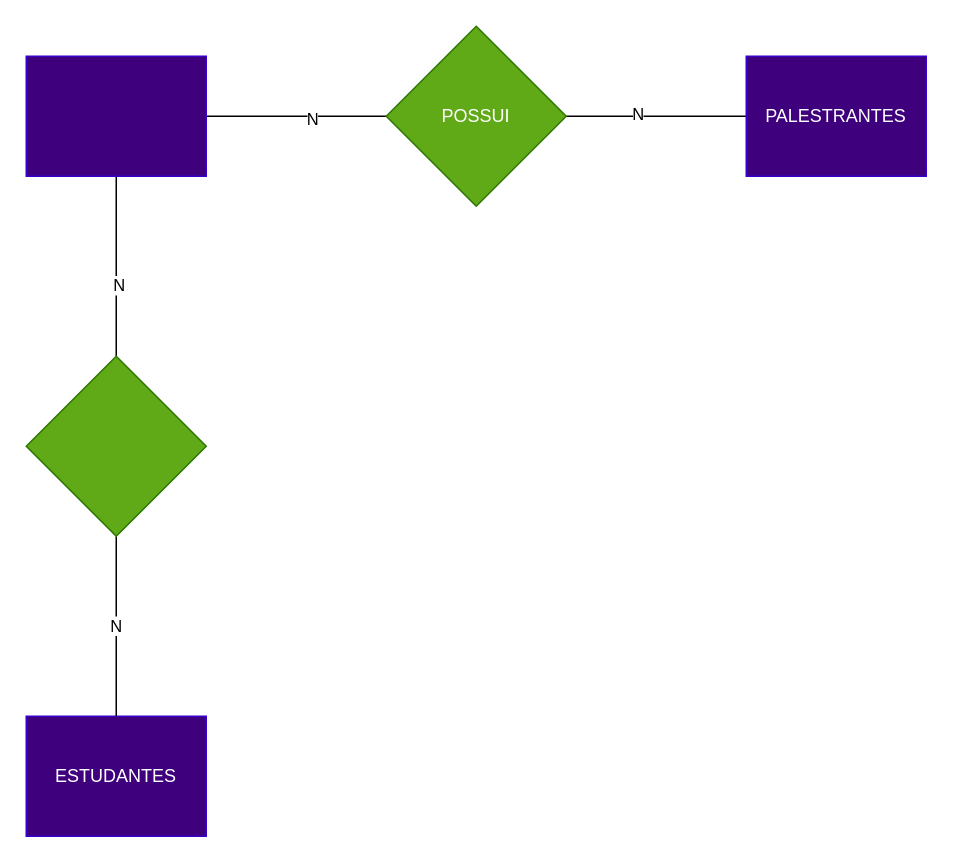
The diagram is 953 pixels wide and 863 high, and some of its shapes have lost their labels. Each missing label, with the box of its shape:
EVENTO: (25, 55, 206, 176)
INSCRIÇÕES: (25, 355, 206, 536)
